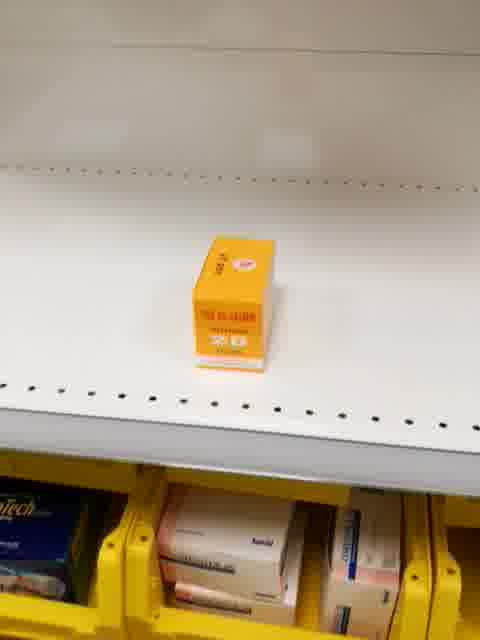jasminetea: (191, 234, 278, 376)
